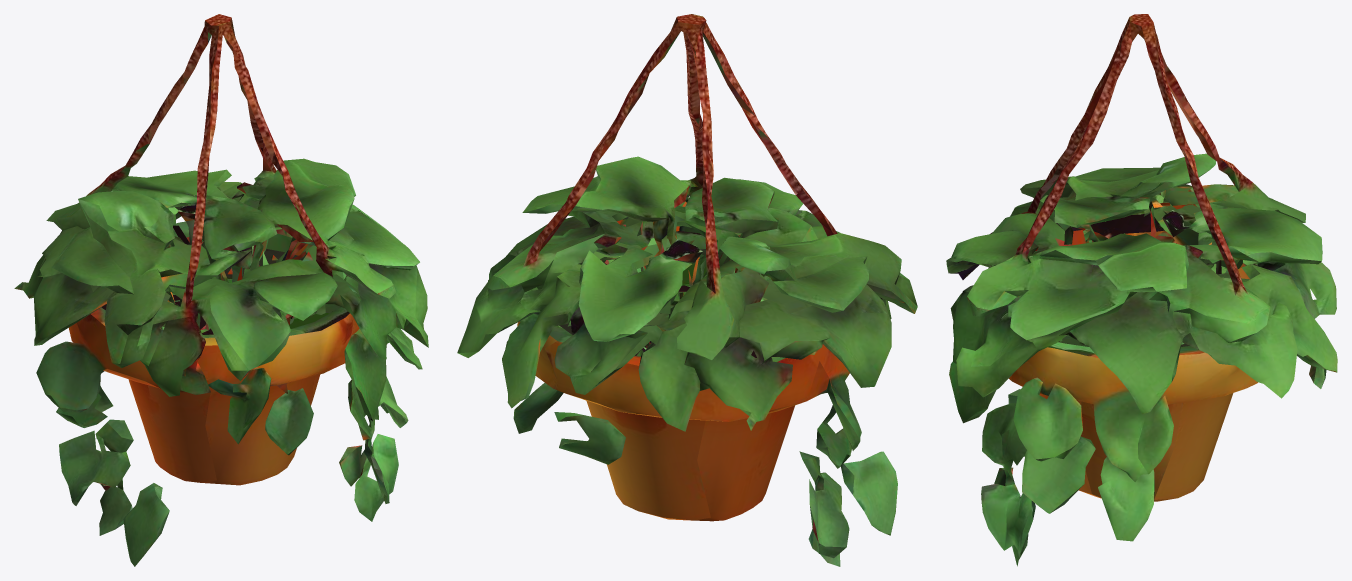
The model's file is hanging_plant.glb.
3 views of the same model, side by side, from view 1: azimuth 30°, elevation 25°; view 2: azimuth 150°, elevation 25°; view 3: azimuth 270°, elevation 25° (orthographic). The views are drawn at different scales.
Visible parts, largest first — view 1: hanging_plant; view 2: hanging_plant; view 3: hanging_plant.
Part boxes in pixels (x1,y1,x2,y2): hanging_plant: [14, 14, 428, 566]; hanging_plant: [457, 14, 917, 566]; hanging_plant: [946, 14, 1337, 566].
Bounding box in the file's own units: 0.7796 × 1 × 0.7084.
1 material, 1 textured.
